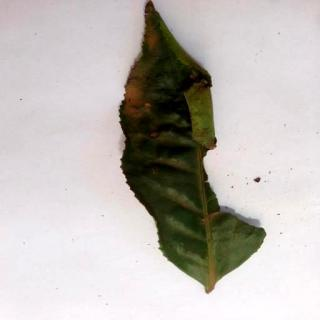Algal Leaf: (119, 1, 269, 296)
